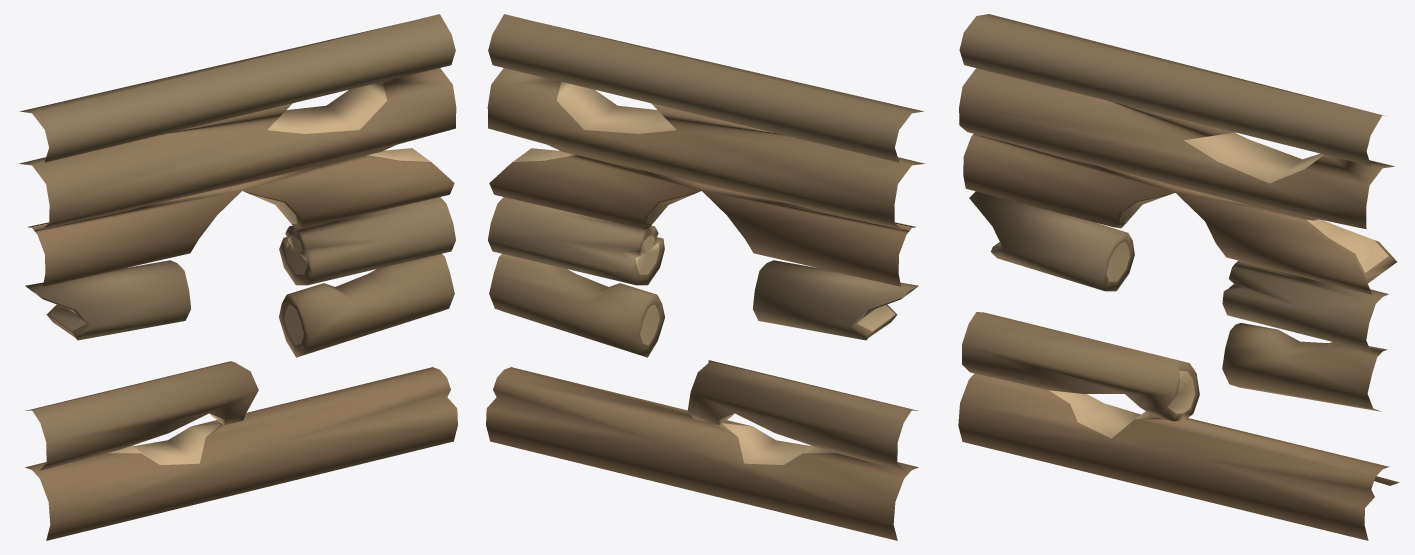
File: rpgpp_av_wall_03_3x3_window_02a.gltf
3 views of the same model, side by side, from view 1: azimuth 30°, elevation 25°; view 2: azimuth 150°, elevation 25°; view 3: azimuth 330°, elevation 25° (orthographic).
Parts seen in each view (by area): view 1: rpgpp_av_wall_03_3x3_window_02a; view 2: rpgpp_av_wall_03_3x3_window_02a; view 3: rpgpp_av_wall_03_3x3_window_02a.
Boxes of the visible parts, bbox=[...] form: rpgpp_av_wall_03_3x3_window_02a: bbox=[18, 14, 457, 540]; rpgpp_av_wall_03_3x3_window_02a: bbox=[486, 14, 925, 540]; rpgpp_av_wall_03_3x3_window_02a: bbox=[958, 14, 1399, 540].
Size of the model in its own units: 0.03 by 0.03 by 0.00463.
Materials: 1 (1 with a texture image).
